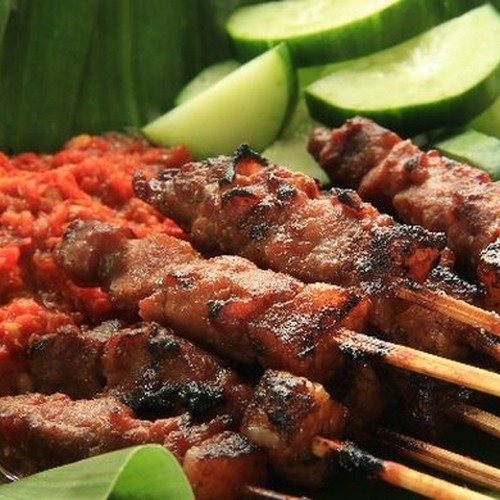sate plecing: (119, 146, 450, 352), (10, 315, 336, 471), (312, 114, 500, 268)
